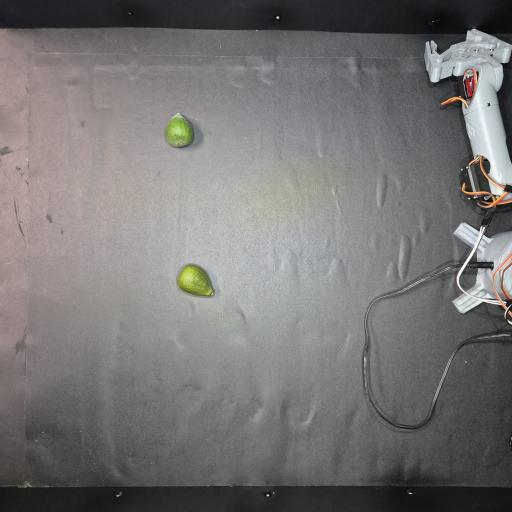higo: (177, 265, 214, 296), (165, 113, 194, 147)
